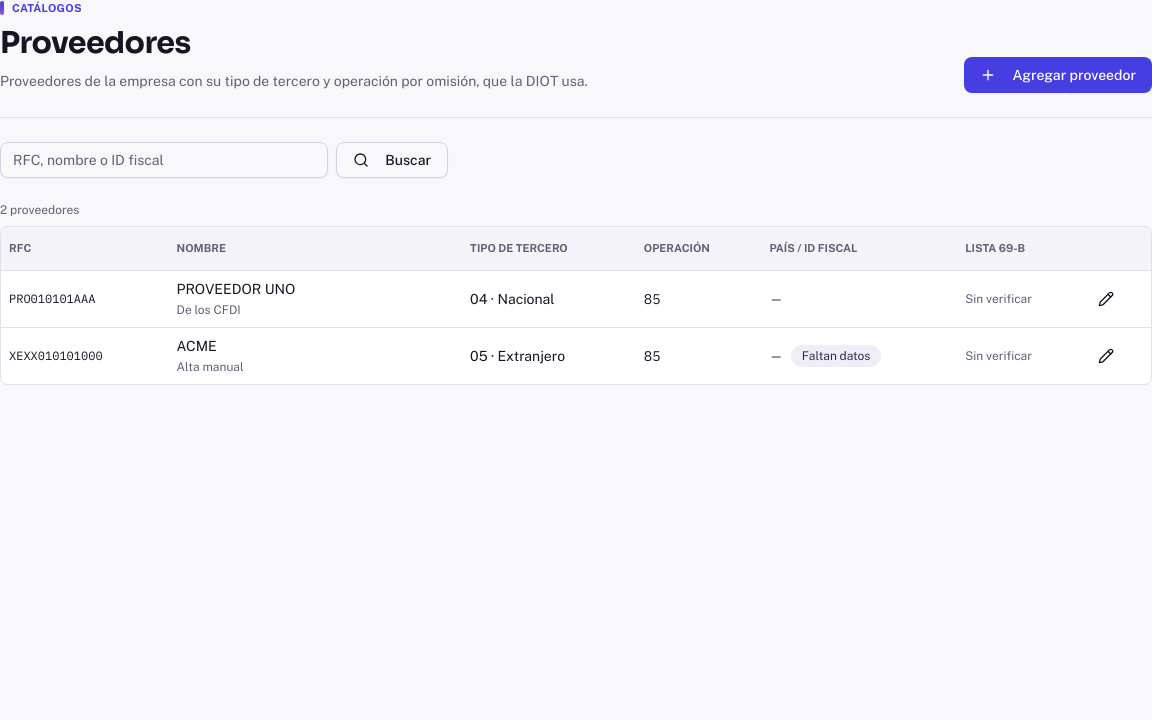
Scenario: ProveedoresPantalla › muestra el error del servidor y deja el diálogo abierto
Click the button "Agregar proveedor". click: [1058, 74]
box: [964,56,1151,92]
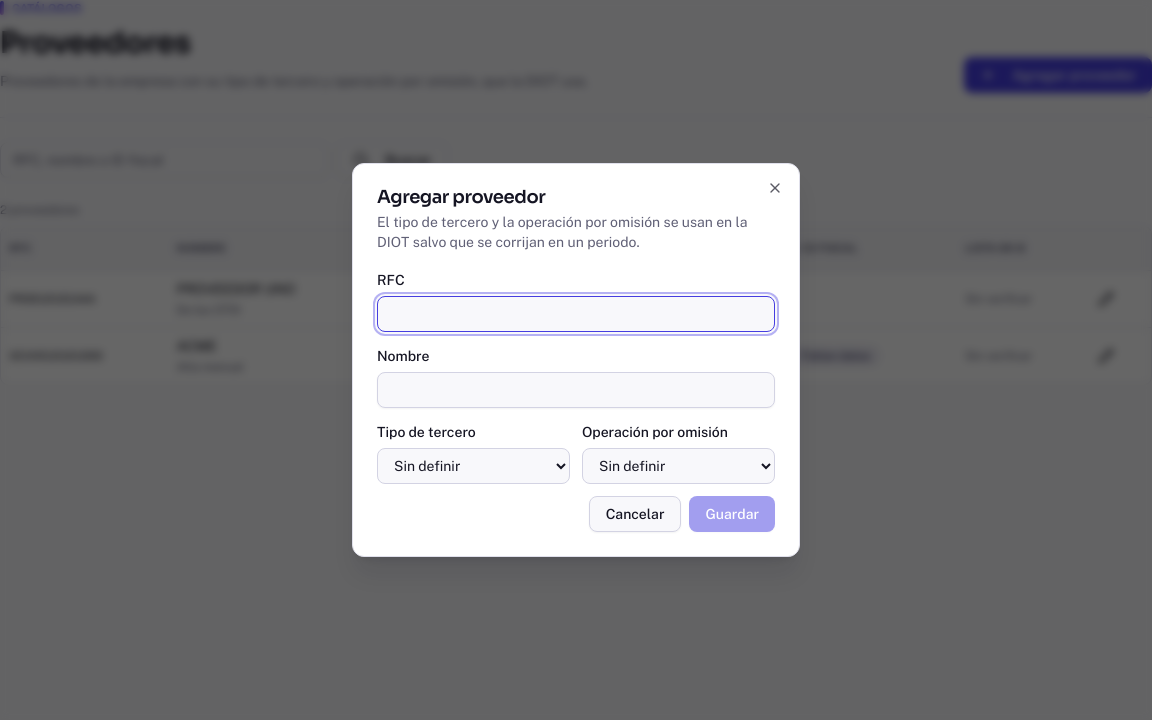
Type "PRO010101AAA" into the field labelled "RFC". click: [576, 314]
box: [377,296,775,332]
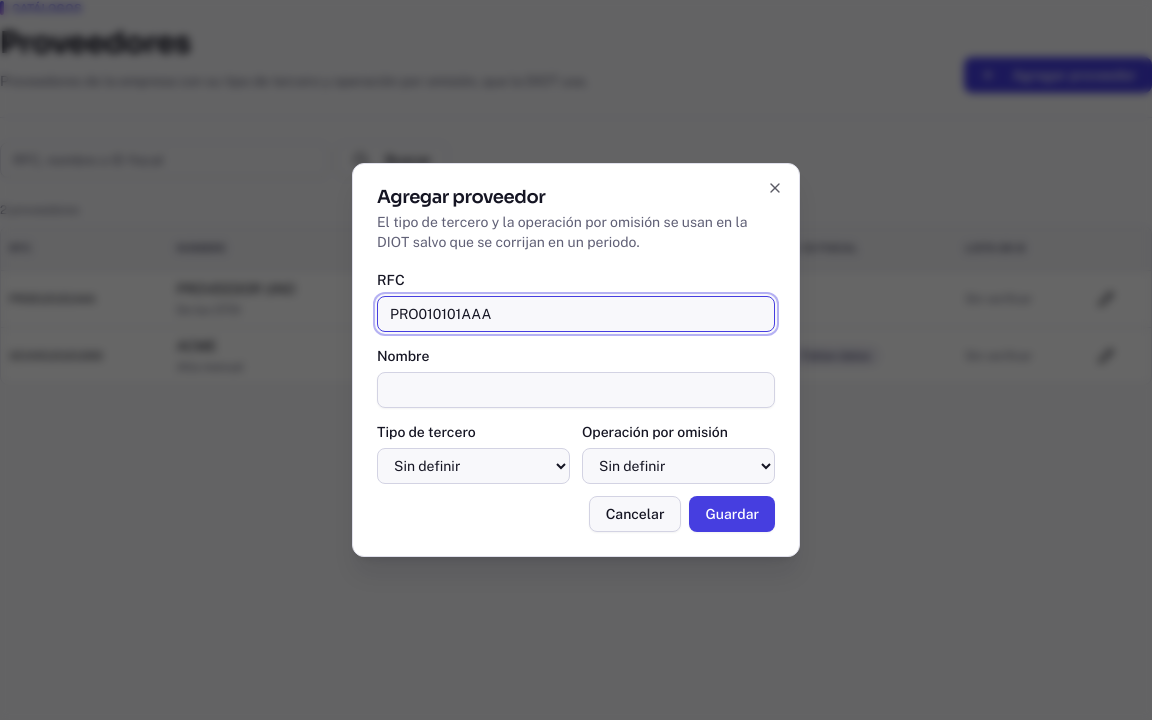
Click the button "Guardar". click: [732, 514]
box: [690,496,775,532]
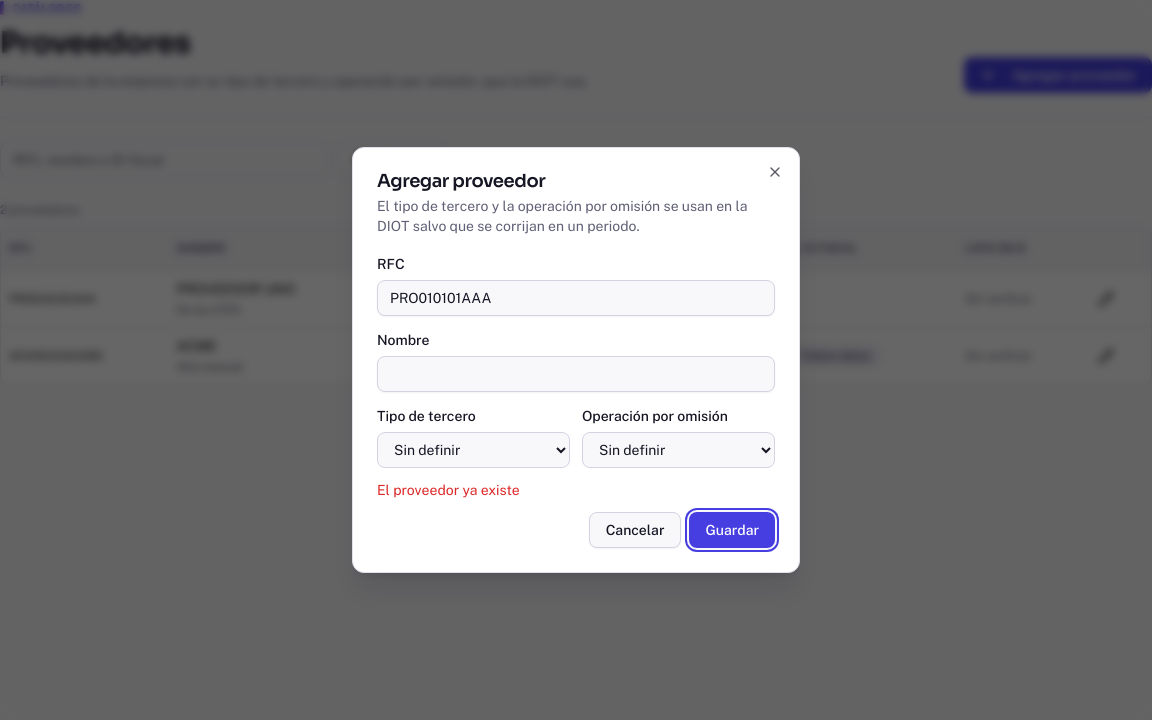
Now the message reads "El proveedor ya existe", box [377,482,520,498]
